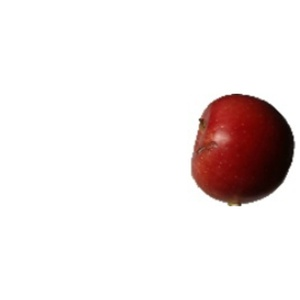maçã braeburn: (189, 91, 294, 205)
